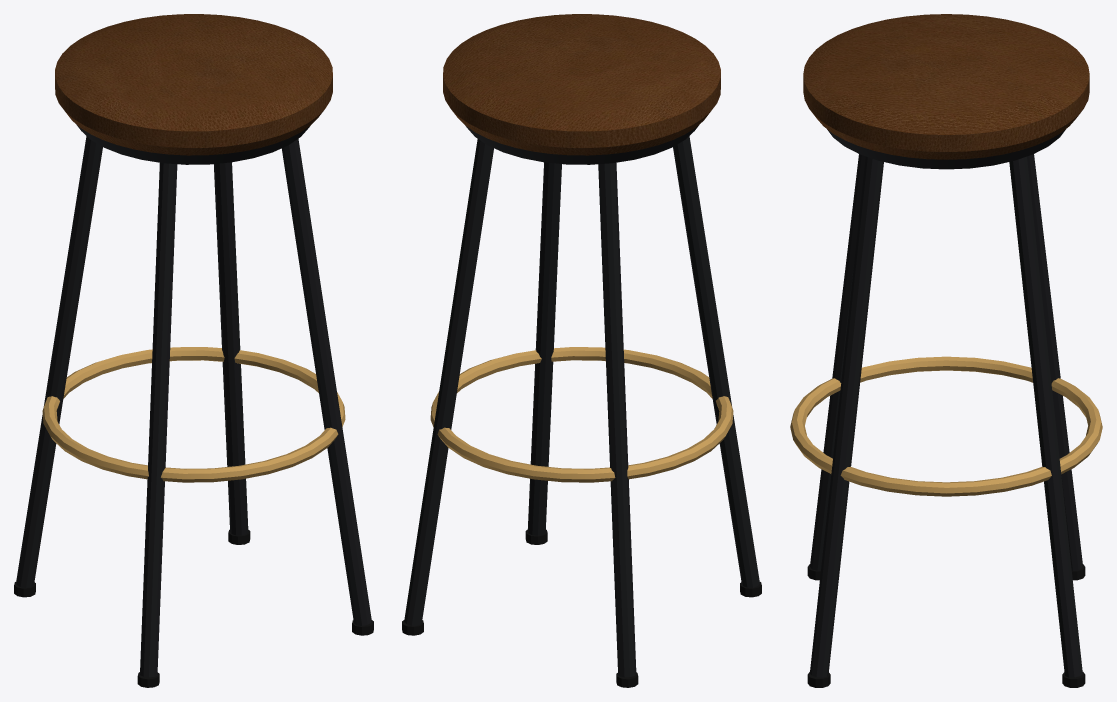
File: leather_black.glb
3 renders of one model, left to right at view 1: azimuth 30°, elevation 25°; view 2: azimuth 150°, elevation 25°; view 3: azimuth 270°, elevation 25°, orthographic. The views are drawn at different scales.
Visible parts, largest first — view 1: leather_black; view 2: leather_black; view 3: leather_black.
Boxes of the visible parts, bbox=[...] form: leather_black: bbox=[14, 14, 373, 687]; leather_black: bbox=[402, 14, 761, 687]; leather_black: bbox=[790, 14, 1102, 687].
Size of the model in its own units: 0.3818 by 0.766 by 0.3819.
4 materials, 1 textured.
